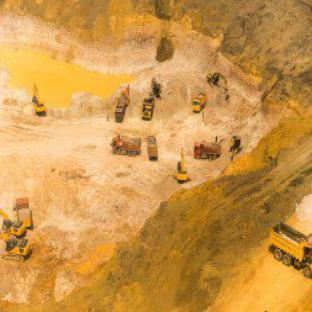ExcavationMachinery: (206, 70, 238, 91), (30, 88, 49, 118), (174, 152, 191, 183), (228, 134, 245, 162), (148, 79, 166, 97), (112, 104, 125, 125)
Vehicle: (255, 221, 312, 278), (0, 233, 33, 263), (105, 134, 143, 157), (13, 198, 38, 227), (194, 139, 221, 160), (192, 95, 211, 116), (143, 95, 155, 121)
